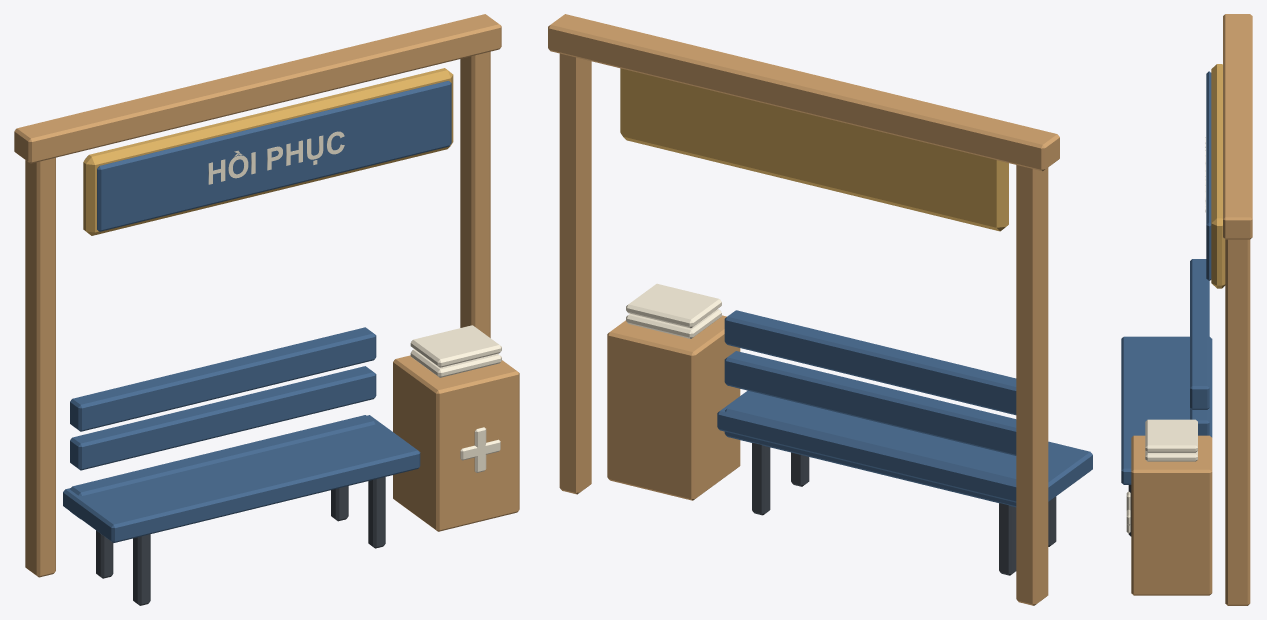
File: recovery-station.glb
3 renders of one model, left to right at view 1: azimuth 30°, elevation 25°; view 2: azimuth 150°, elevation 25°; view 3: azimuth 270°, elevation 25°, orthographic. The views are drawn at different scales.
Parts seen in each view (by area): view 1: recovery_station; view 2: recovery_station; view 3: recovery_station.
Boxes of the visible parts, x1,y1,x2,y2 form: recovery_station: (14, 14, 519, 605); recovery_station: (548, 14, 1092, 605); recovery_station: (1121, 14, 1252, 605).
Bounding box in the file's own units: 2.94 × 2.62 × 0.795.
